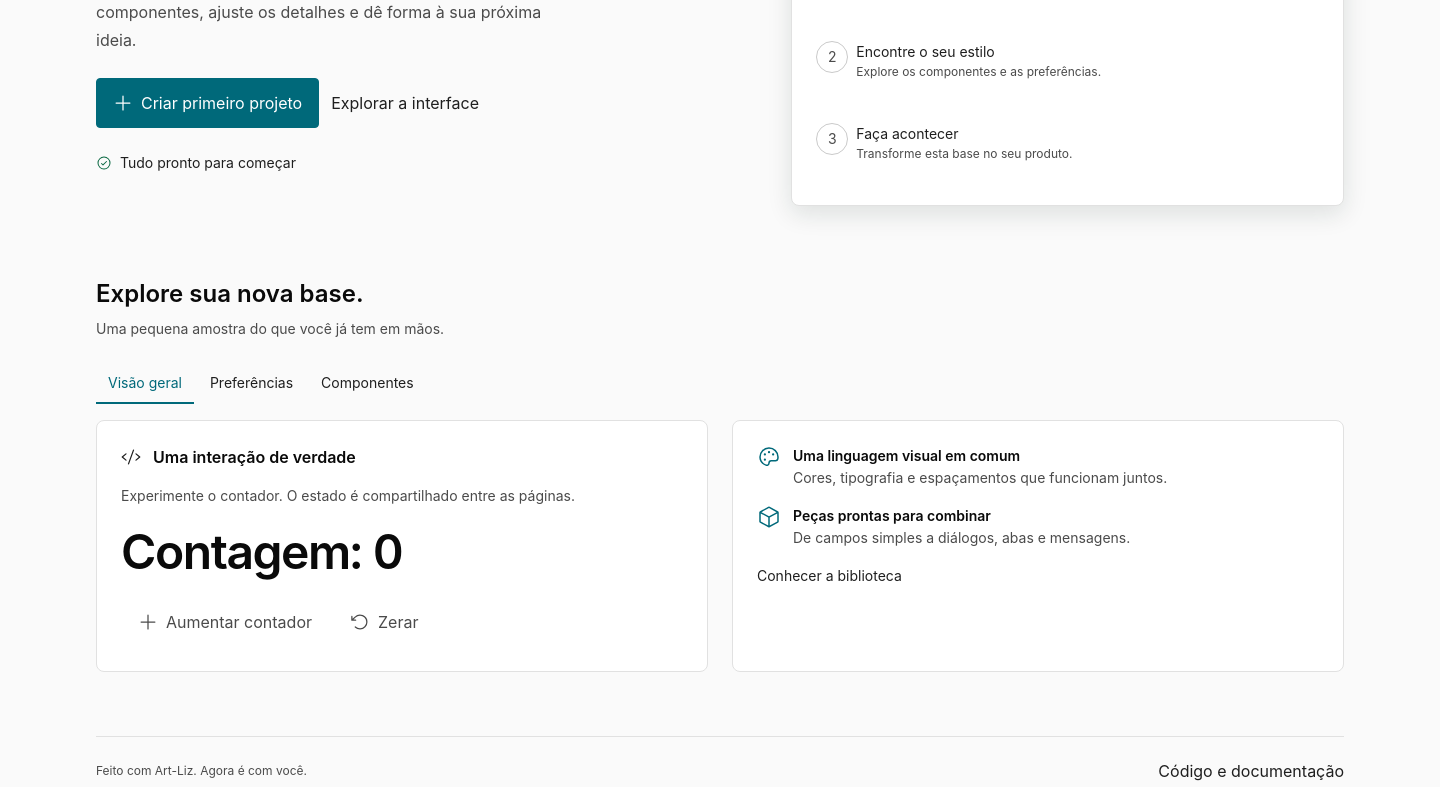
App › removes and restores markers without losing the other tabs
The image size is (1440, 787).
(page scrolled)
Click the tab "Componentes". click: (367, 384)
box: [309, 364, 426, 404]
(page scrolled)
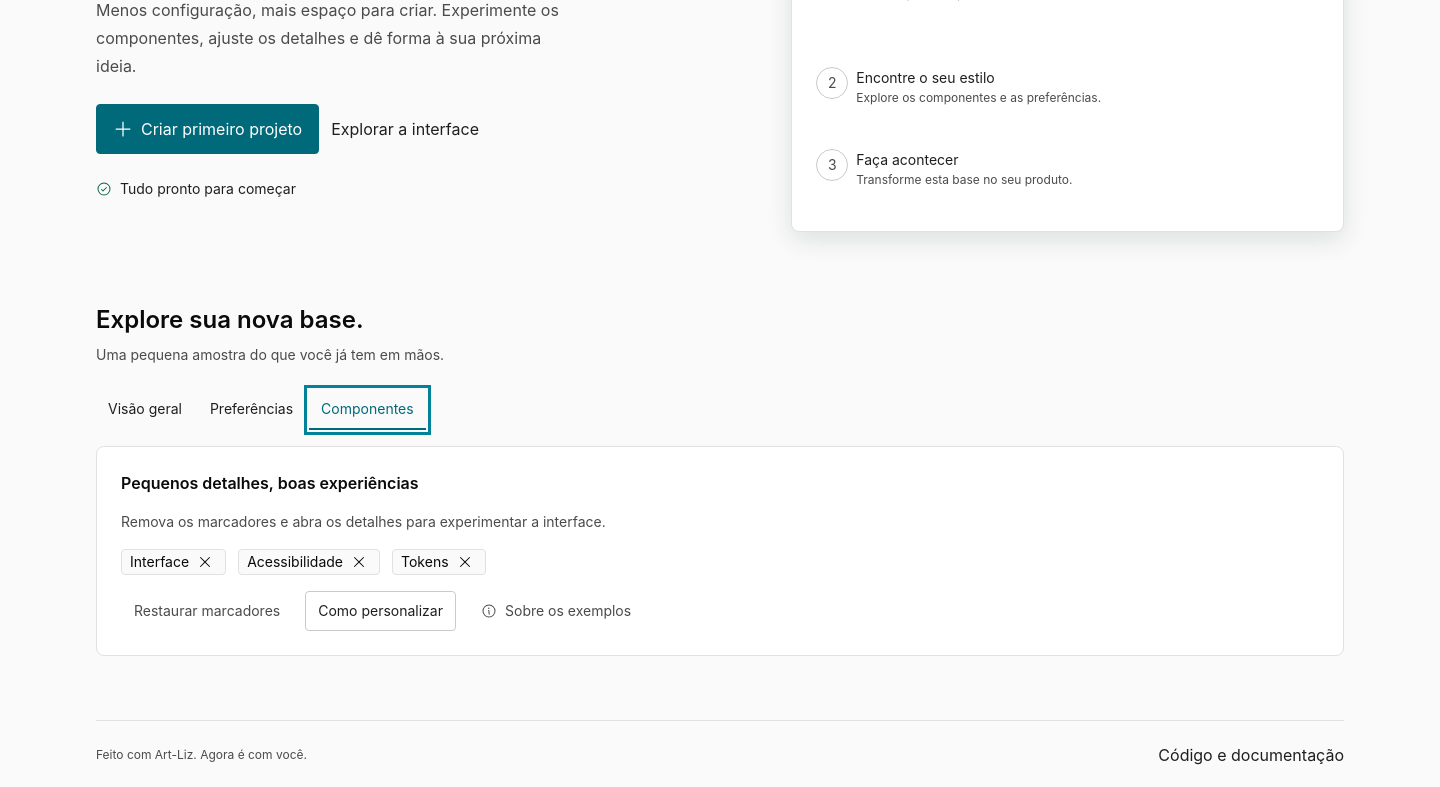
Click the button named "Remover Interface". click: (205, 562)
box: [193, 550, 217, 574]
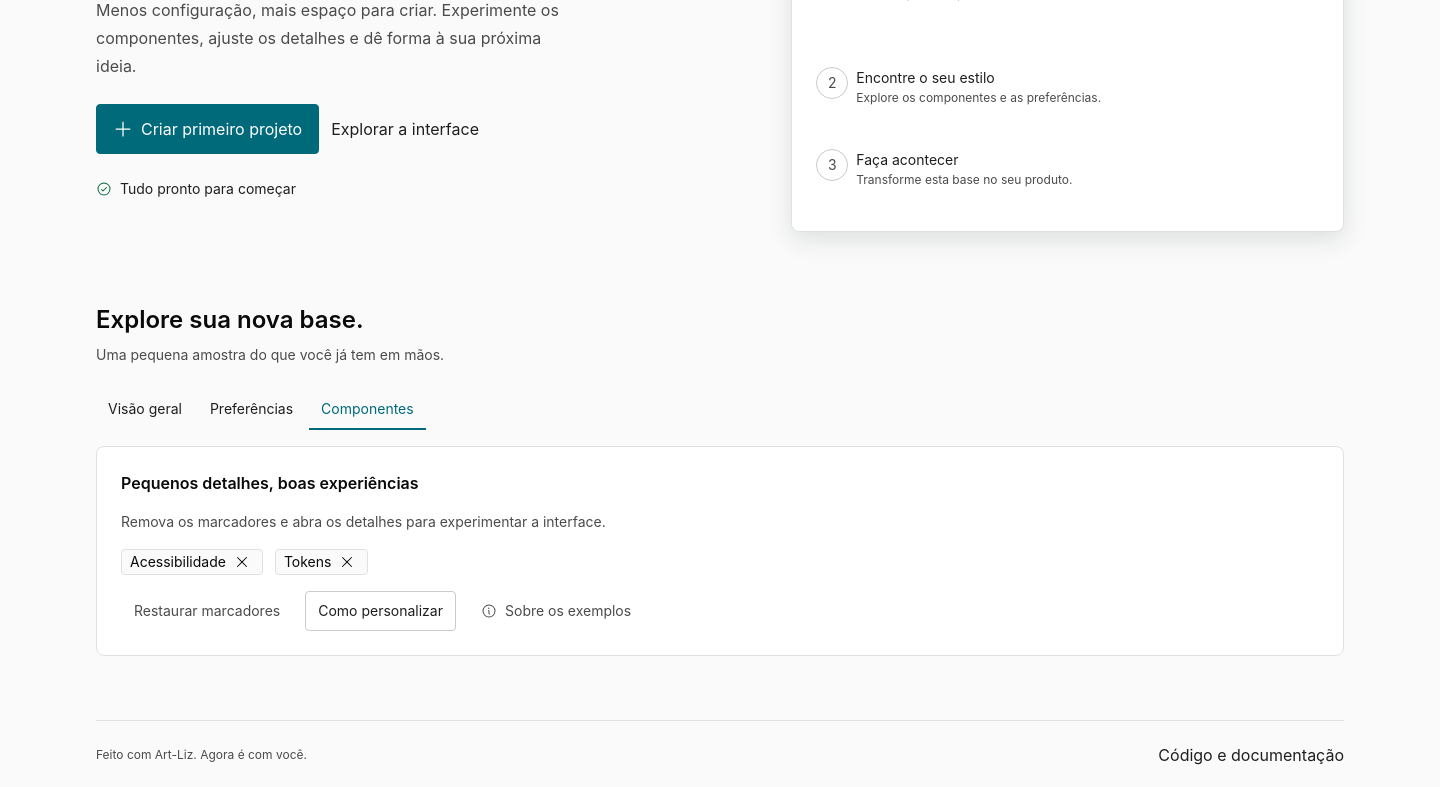
Click the button "Restaurar marcadores". click: (207, 611)
box: [121, 591, 293, 631]
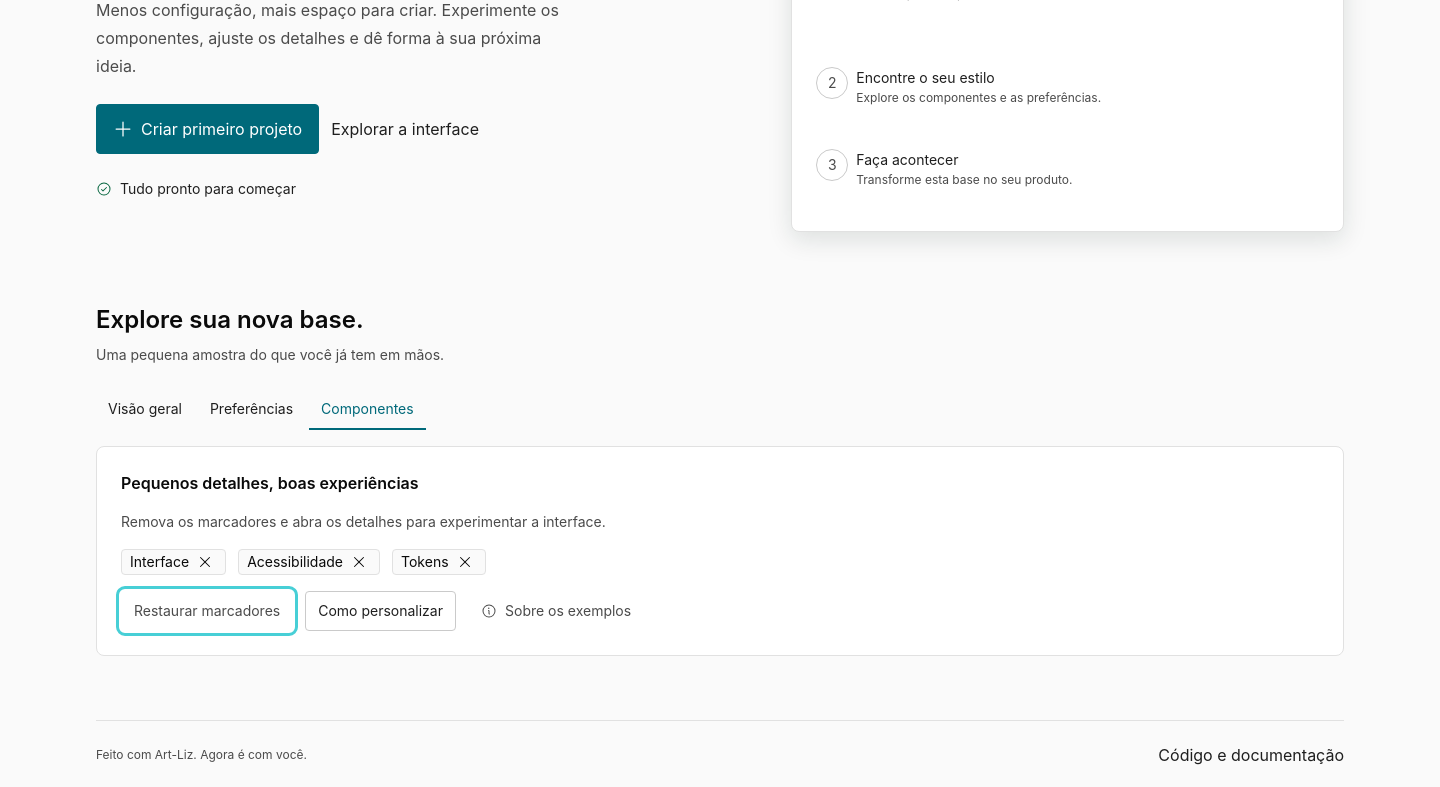
Expected: the button named "Remover Interface" is shown, [193, 550, 217, 574]
Click the tab "Visão geral". click: (145, 410)
box: [96, 390, 194, 430]
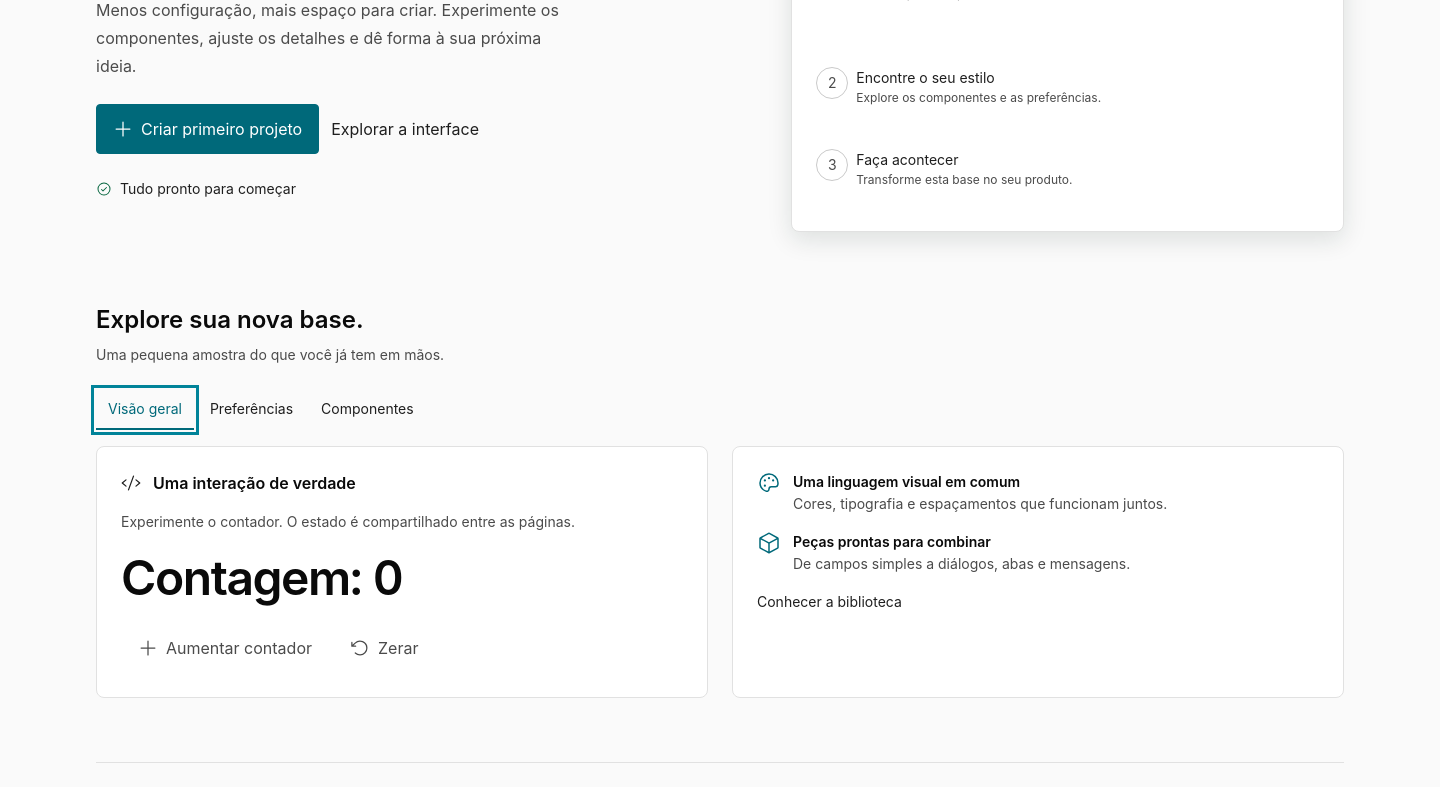
Expected: the button "Aumentar contador" is shown, [121, 623, 329, 673]
